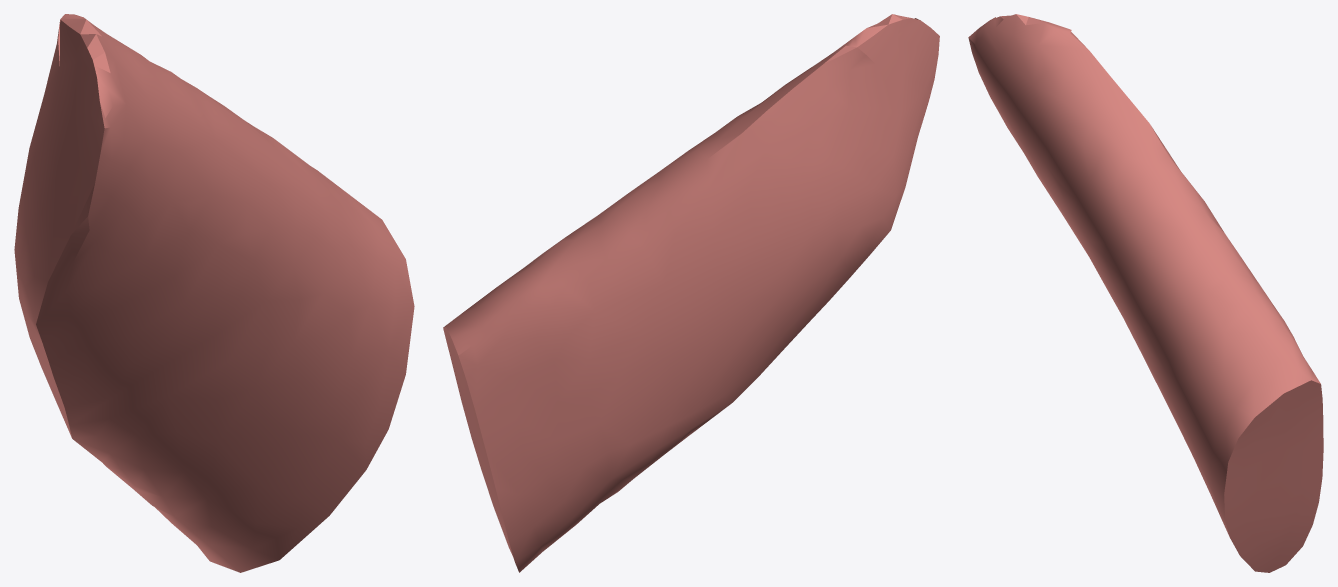
File: fma298607_mm4000m.glb
3 views of the same model, side by side, from view 1: azimuth 30°, elevation 25°; view 2: azimuth 150°, elevation 25°; view 3: azimuth 270°, elevation 25° (orthographic). The views are drawn at different scales.
Parts seen in each view (by area): view 1: FMA298607_MM4000M; view 2: FMA298607_MM4000M; view 3: FMA298607_MM4000M.
Boxes of the visible parts, x1=… form: FMA298607_MM4000M: x1=14, y1=14, x2=414, y2=572; FMA298607_MM4000M: x1=443, y1=14, x2=939, y2=572; FMA298607_MM4000M: x1=968, y1=14, x2=1323, y2=572.
Bounding box in the file's own units: 0.0223 × 0.0313 × 0.0221.
